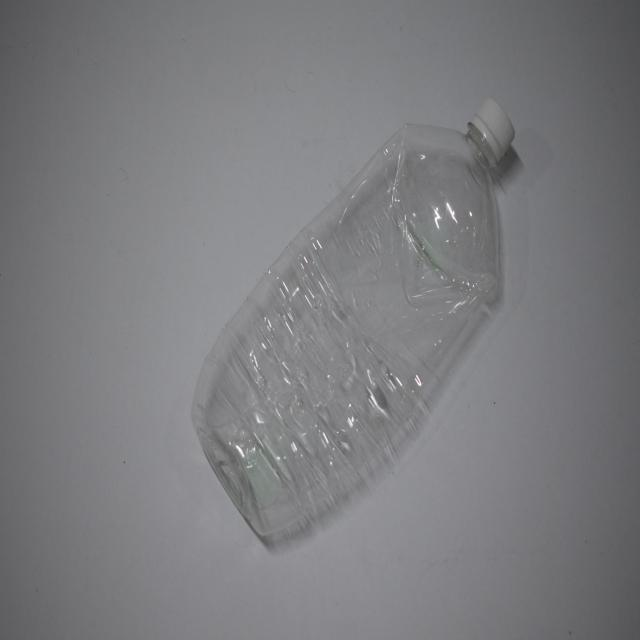empty: (192, 101, 513, 539)
